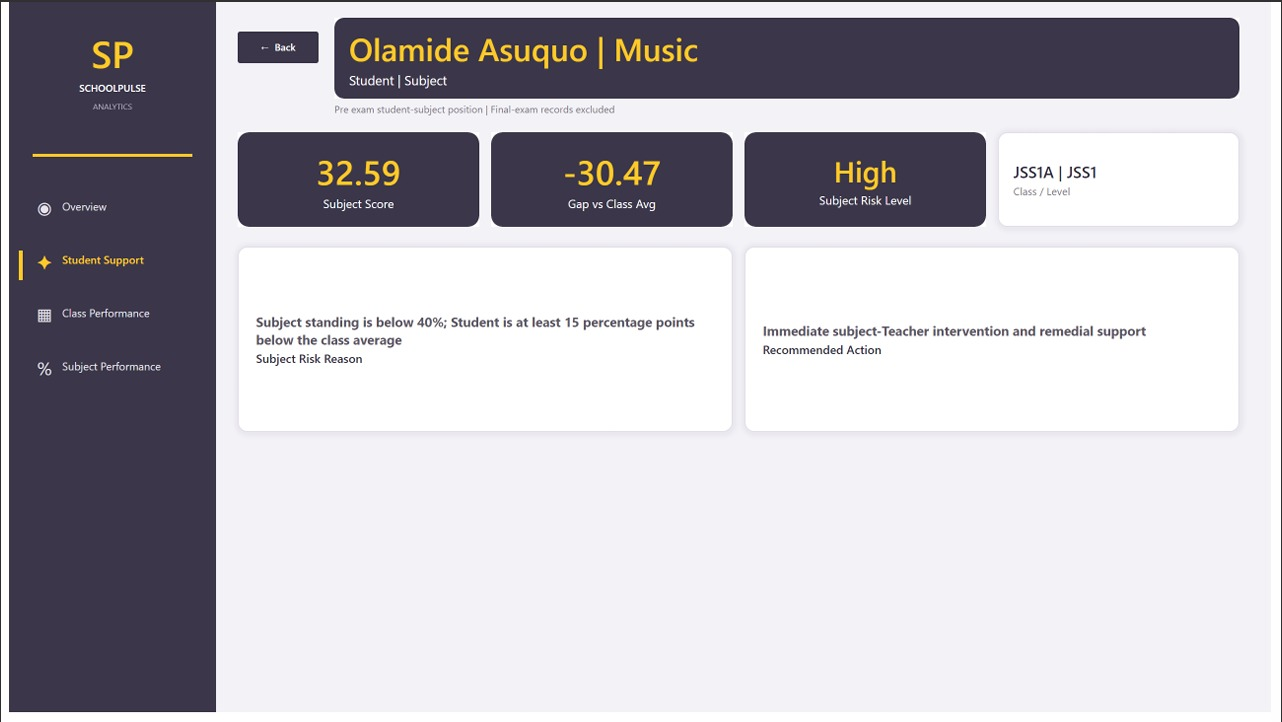

What the dashboard file says about the page in this screenshot:
{"tool":"powerbi","page":{"name":"Student-Subject Detail","canvas":[1280,720],"ordinal":7},"visuals":[{"type":"shape","box":[0,0,210,720],"z":0},{"type":"textbox","box":[28,26,154,108],"z":1000},{"type":"shape","box":[24,154,162,3],"z":2000},{"type":"shape","box":[10,252,4,30],"z":3000},{"type":"textbox","box":[22,197,28,30],"z":4000},{"type":"textbox","box":[22,251,28,30],"z":5000},{"type":"textbox","box":[22,305,28,30],"z":7000},{"type":"textbox","box":[22,359,28,30],"z":8000},{"type":"textbox","box":[54,305,142,30],"z":9000},{"type":"textbox","box":[54,251,142,30],"z":10000},{"type":"textbox","box":[54,359,142,30],"z":11000},{"type":"textbox","box":[54,197,142,30],"z":12000},{"type":"actionButton","box":[14,190,182,46],"z":14000},{"type":"actionButton","box":[14,244,182,46],"z":15000},{"type":"actionButton","box":[14,298,182,46],"z":16000},{"type":"actionButton","box":[14,352,182,46],"z":17000},{"type":"shape","box":[232,30,82,32],"z":73000},{"type":"textbox","box":[232,35,82,22],"z":73001},{"type":"actionButton","box":[232,30,82,32],"z":73002},{"type":"cardVisual","fields":{"Data":["Student Overview.Selected Student Subject Header"]},"box":[330,16,918,82],"z":80000},{"type":"textbox","box":[330,98,850,22],"z":80001},{"type":"cardVisual","fields":{"Data":["Student Overview.Selected Student Subject Score"]},"box":[232,132,245,96],"z":80100},{"type":"cardVisual","fields":{"Data":["Student Overview.Selected Student Subject Gap"]},"box":[489,132,245,96],"z":80101},{"type":"cardVisual","fields":{"Data":["Student Overview.Selected Student Subject Risk"]},"box":[746,132,245,96],"z":80102},{"type":"cardVisual","fields":{"Data":["Student Overview.Selected Student Subject Class Context"]},"box":[1003,132,245,96],"z":80103},{"type":"cardVisual","fields":{"Data":["Student Overview.Selected Student Subject Reason"]},"box":[232,248,502,188],"z":80200},{"type":"cardVisual","fields":{"Data":["Student Overview.Selected Student Subject Action"]},"box":[746,248,502,188],"z":80201}]}

Visuals, with their boxes on the page's 1280x720 design canvas (x1, y1, x2, y2). These are canvas units, not pixel positions in the 1282x722 screenshot, which may show the page scaled, cropped or inside an application window:
shape: 0/0/210/720
textbox: 28/26/182/134
shape: 24/154/186/157
shape: 10/252/14/282
textbox: 22/197/50/227
textbox: 22/251/50/281
textbox: 22/305/50/335
textbox: 22/359/50/389
textbox: 54/305/196/335
textbox: 54/251/196/281
textbox: 54/359/196/389
textbox: 54/197/196/227
actionButton: 14/190/196/236
actionButton: 14/244/196/290
actionButton: 14/298/196/344
actionButton: 14/352/196/398
shape: 232/30/314/62
textbox: 232/35/314/57
actionButton: 232/30/314/62
cardVisual - Student Overview.Selected Student Subject Header: 330/16/1248/98
textbox: 330/98/1180/120
cardVisual - Student Overview.Selected Student Subject Score: 232/132/477/228
cardVisual - Student Overview.Selected Student Subject Gap: 489/132/734/228
cardVisual - Student Overview.Selected Student Subject Risk: 746/132/991/228
cardVisual - Student Overview.Selected Student Subject Class Context: 1003/132/1248/228
cardVisual - Student Overview.Selected Student Subject Reason: 232/248/734/436
cardVisual - Student Overview.Selected Student Subject Action: 746/248/1248/436
